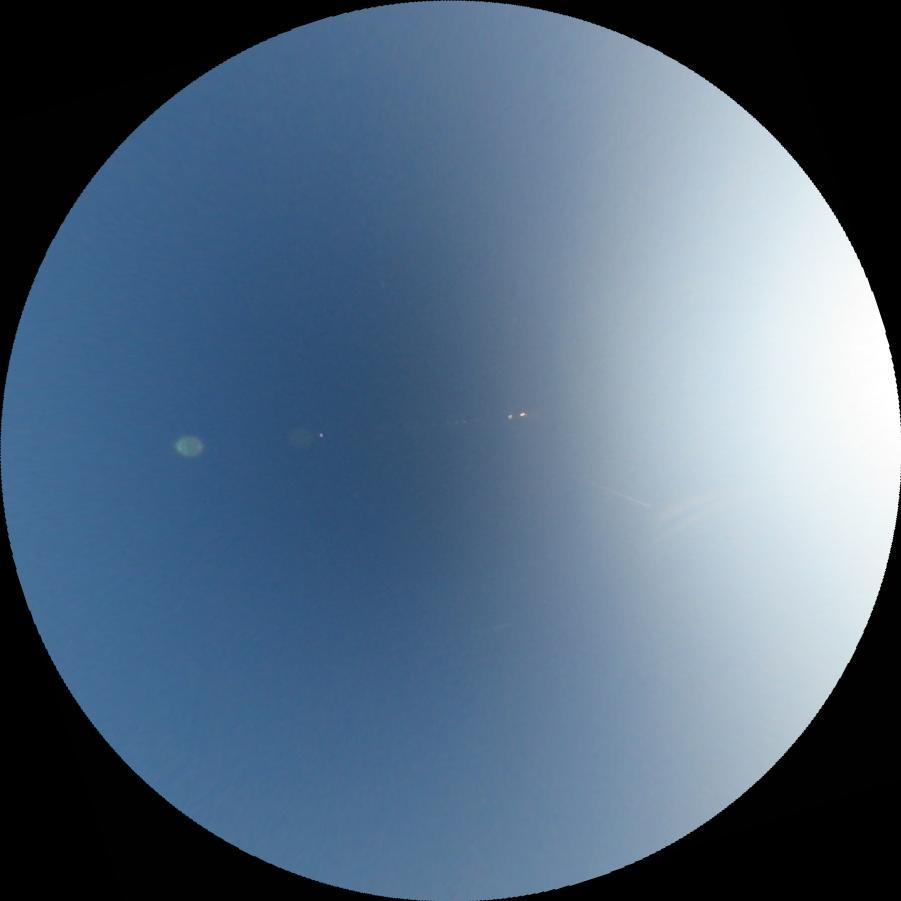contrail young: (579, 476, 651, 508), (469, 620, 513, 635)
